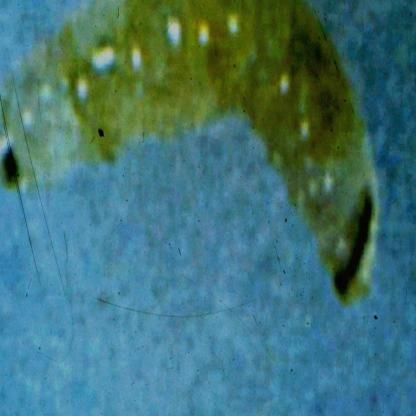whorl-maggot: (1, 2, 381, 306)
